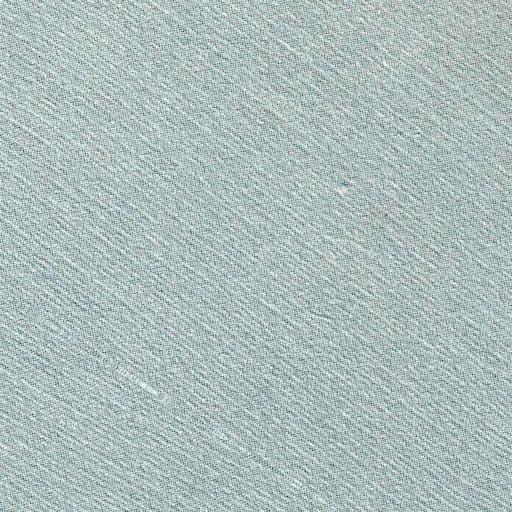knot: (326, 171, 370, 210)
